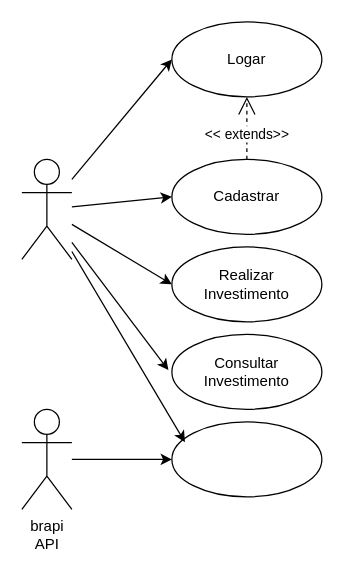
This 344x576 diagram has some shape labels left out. Each missing label, with the box of its shape:
Consultar Ativo: (171, 421, 322, 497)
Usuário: (21, 158, 72, 259)
